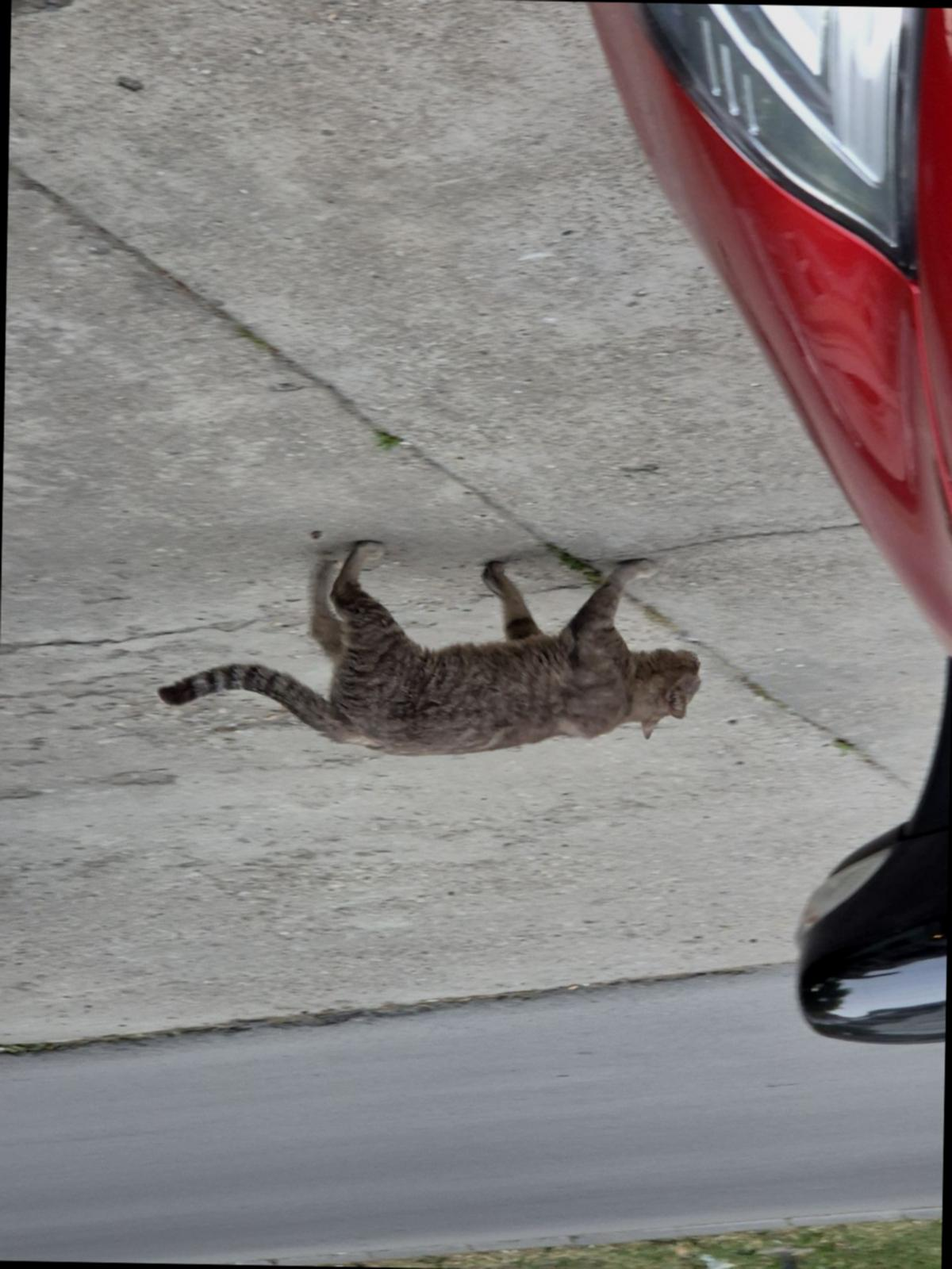macka: (157, 535, 703, 760)
